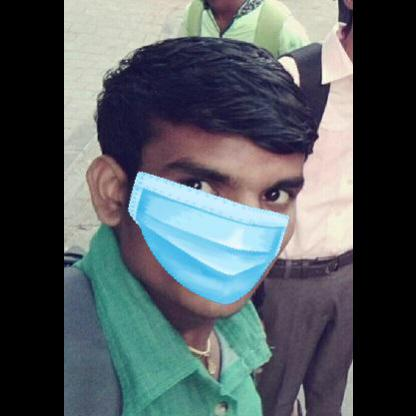Surgical Mask: (127, 122, 288, 320)
